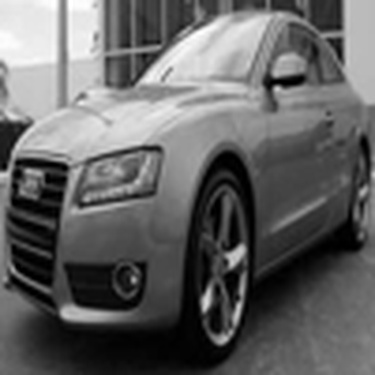car: (1, 1, 371, 371)
